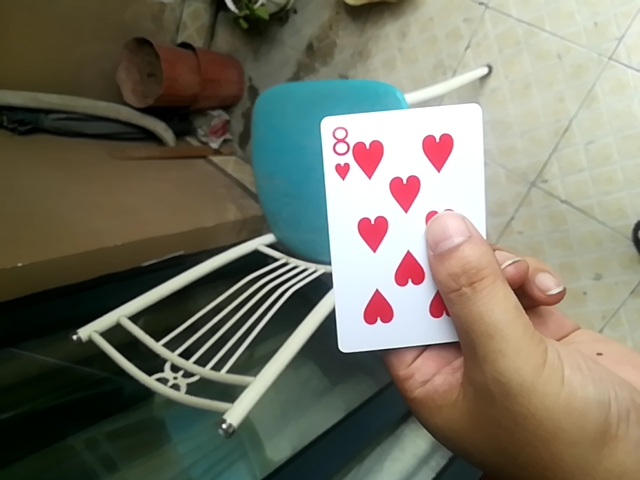hx 8: (315, 100, 481, 352)
